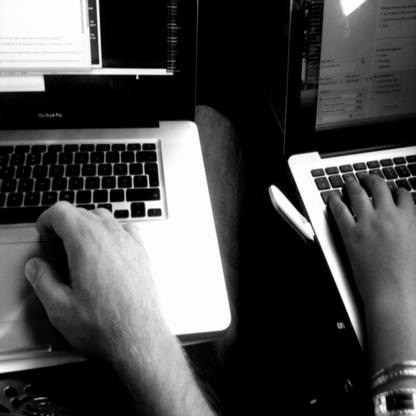board: (0, 0, 231, 378), (281, 0, 415, 358)
